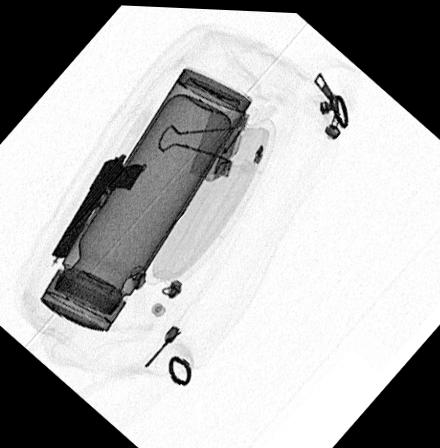Gun: (51, 149, 147, 259)
